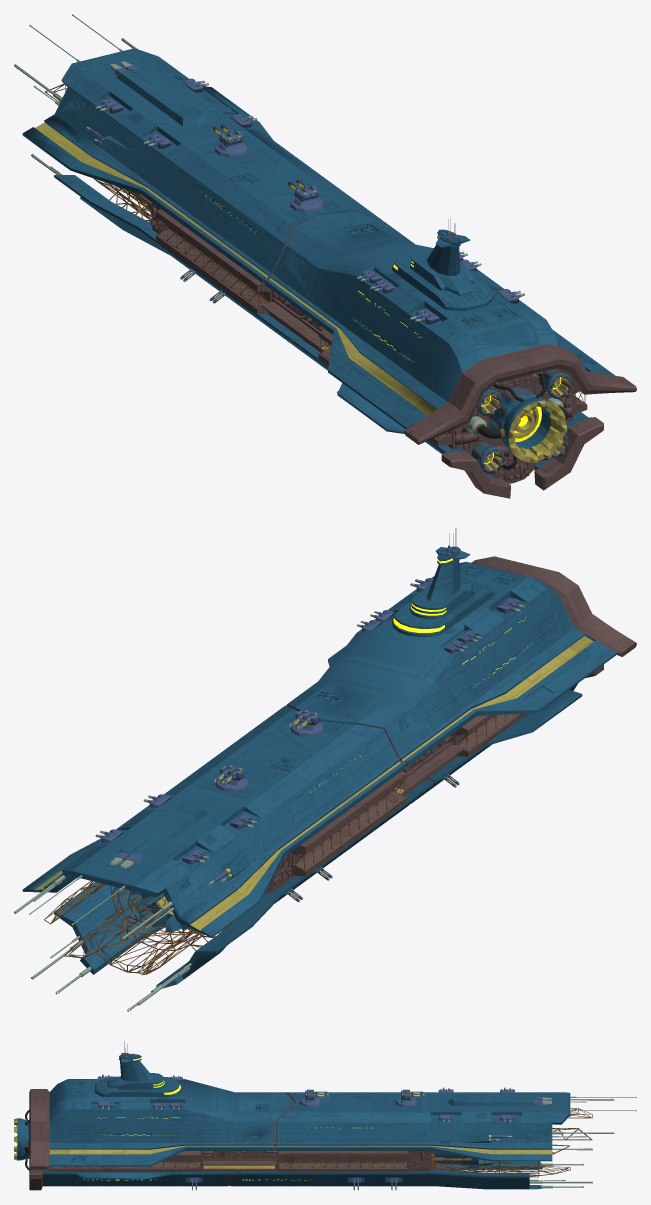
The model's file is space-voyage.glb.
The picture shows the model from 3 angles, top to bottom: view 1: azimuth 30°, elevation 25°; view 2: azimuth 150°, elevation 25°; view 3: azimuth 270°, elevation 25°; orthographic projection. The views are drawn at different scales.
Visible parts, largest first — view 1: Big engine parts.001; view 2: Big engine parts.001; view 3: Big engine parts.001.
Boxes of the visible parts, x1=… form: Big engine parts.001: x1=14, y1=14, x2=636, y2=498; Big engine parts.001: x1=14, y1=527, x2=636, y2=1011; Big engine parts.001: x1=14, y1=1041, x2=636, y2=1190.
Size of the model in its own units: 94.32 by 92.64 by 366.
Materials: 2 (2 with a texture image).
